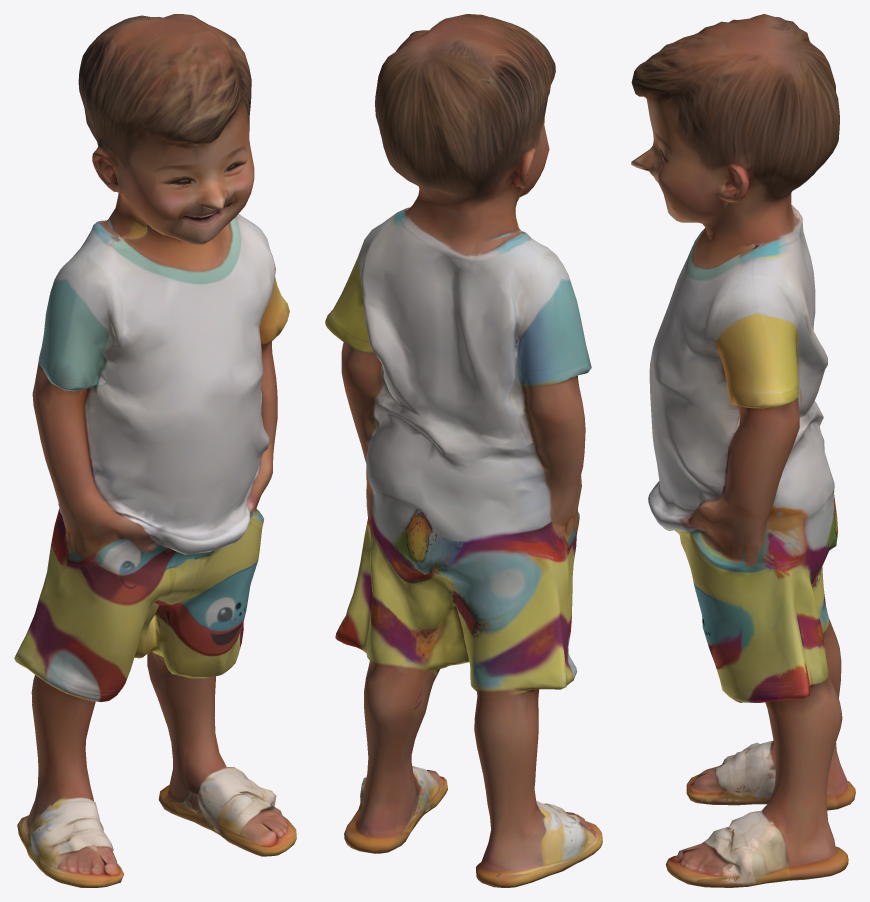
File: son.glb
The picture shows the model from 3 angles, left to right: view 1: azimuth 30°, elevation 25°; view 2: azimuth 150°, elevation 25°; view 3: azimuth 270°, elevation 25°; orthographic projection. The views are drawn at different scales.
Bounding box in the file's own units: 21536 × 65625 × 16497.
1 material, 1 textured.
